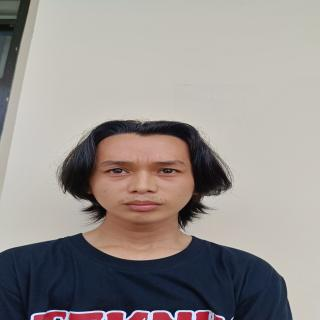Marah: (88, 130, 203, 227)
